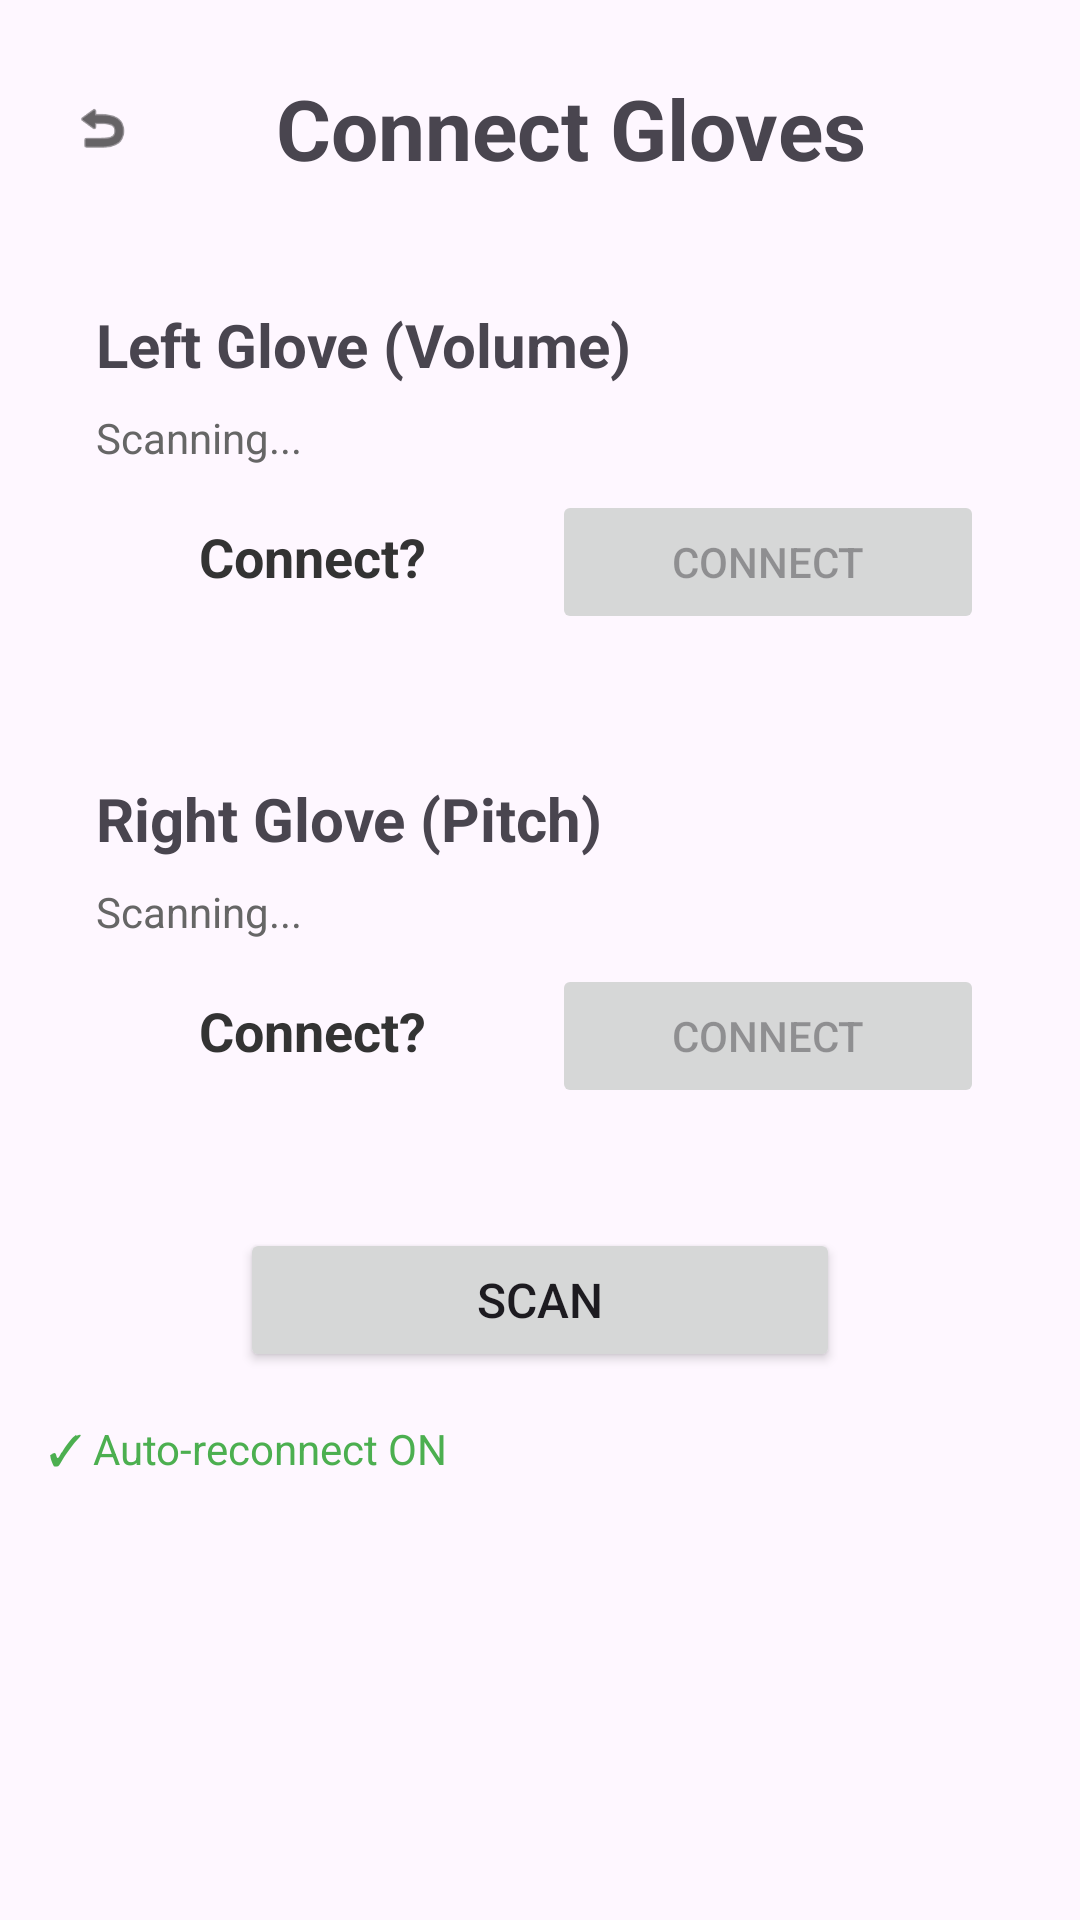

Icons on this 1080px x 1920px Android screen, each with the point to tap as [x,y]:
revert: [103,128]
